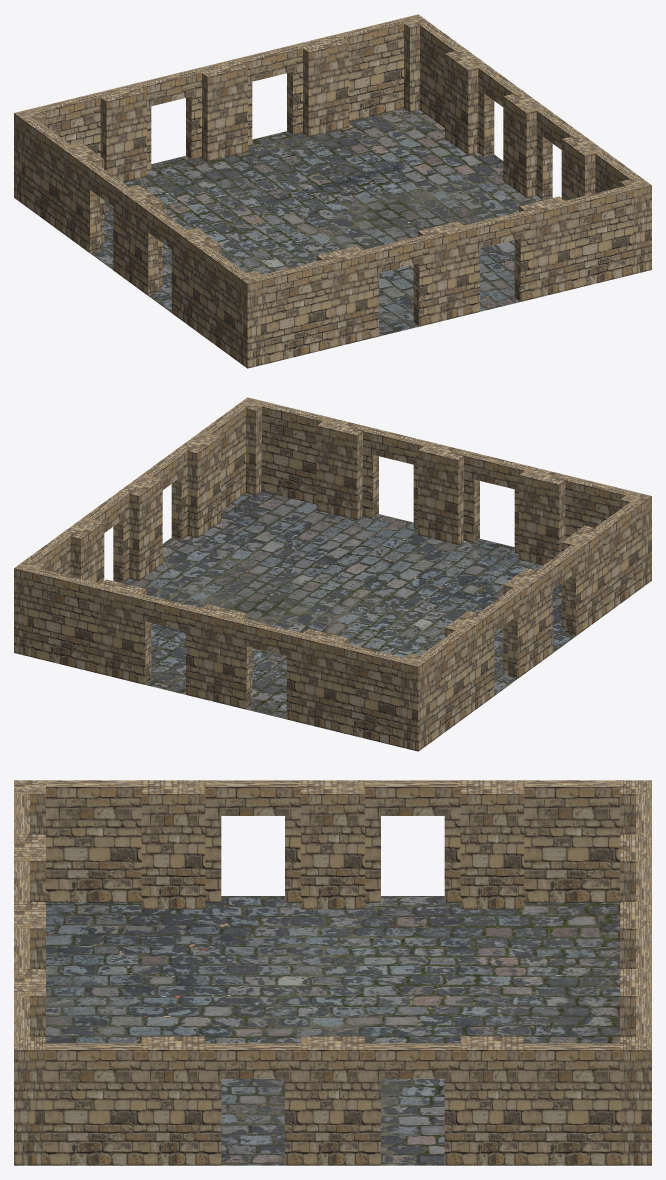
The model's file is playerSpawn.fbx.
The picture shows the model from 3 angles, top to bottom: view 1: azimuth 30°, elevation 25°; view 2: azimuth 150°, elevation 25°; view 3: azimuth 270°, elevation 25°; orthographic projection. The views are drawn at different scales.
Parts seen in each view (by area): view 1: Plane, Cube_17_2, Cube_9_2, Cube_8_2, Cube_10_2, Cube_23_2, Cube_21_2, Cube_18_2, Cube_7_2, Cube_22_2, Cube_14_2, Cube_30 (+25 smaller); view 2: Plane, Cube_16_2, Cube_8_2, Cube_9_2, Cube_7_2, Cube_22_2, Cube_18_2, Cube_21_2, Cube_10_2, Cube_23_2, Cube_14_2, Cube_30 (+25 smaller); view 3: Plane, Cube_15_2, Cube_14_2, Cube_4_2, Cube_30, Cube_13_2, Cube_12_2, Cube_3_2, Cube_5_2, Cube_2_2, Cube_29, Cube_17 (+21 smaller).
Boxes of the visible parts, x1,y1,x2,y2 form: Plane: (90,108,552,336); Cube_17_2: (262,260,328,363); Cube_9_2: (565,186,631,289); Cube_8_2: (338,19,403,121); Cube_10_2: (297,34,349,136); Cube_23_2: (196,59,247,161); Cube_21_2: (95,83,146,182); Cube_18_2: (316,246,368,348); Cube_7_2: (519,196,570,299); Cube_22_2: (418,221,469,323); Cube_14_2: (25,119,70,231); Cube_30: (200,247,245,359); Plane: (113,491,575,719); Cube_16_2: (337,643,403,746); Cube_8_2: (34,569,100,672); Cube_9_2: (262,402,327,504); Cube_7_2: (316,417,368,519); Cube_22_2: (418,442,469,544); Cube_18_2: (519,466,570,565); Cube_21_2: (297,629,349,731); Cube_10_2: (95,579,146,682); Cube_23_2: (196,604,247,706); Cube_14_2: (420,630,465,742); Cube_30: (595,502,640,614); Plane: (46,896,619,1165); Cube_15_2: (524,1043,619,1165); Cube_14_2: (524,780,619,902); Cube_4_2: (46,1043,141,1165); Cube_30: (46,780,141,902); Cube_13_2: (460,1036,524,1165); Cube_12_2: (460,780,524,909); Cube_3_2: (141,1036,205,1165); Cube_5_2: (141,780,205,909); Cube_2_2: (301,1036,364,1165); Cube_29: (301,780,364,909); Cube_17: (205,780,300,902).
Size of the model in its own units: 40 by 8 by 40.
Materials: 2 (2 with a texture image).
